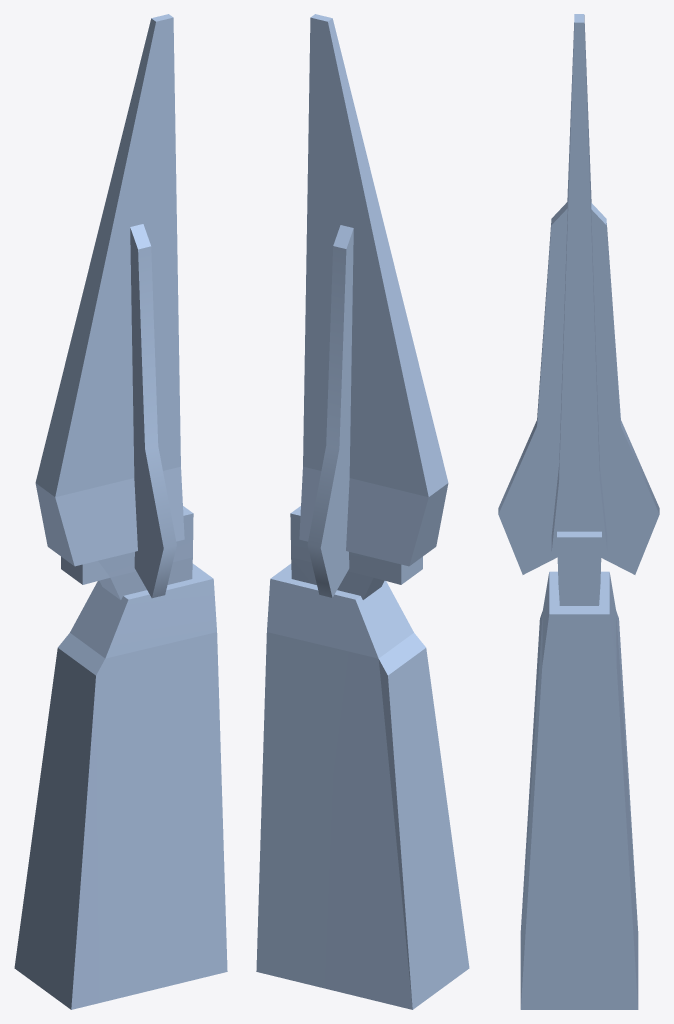
The picture shows the model from 3 angles, left to right: view 1: azimuth 30°, elevation 25°; view 2: azimuth 150°, elevation 25°; view 3: azimuth 270°, elevation 25°; orthographic projection. The views are drawn at different scales.
Parts seen in each view (by area): view 1: Object83; view 2: Object83; view 3: Object83.
Part boxes in pixels (<box>): Object83: <box>14,14,227,1009</box>; Object83: <box>256,14,469,1009</box>; Object83: <box>498,14,659,1009</box>.
Bounding box in the file's own units: 116 × 670 × 101.
